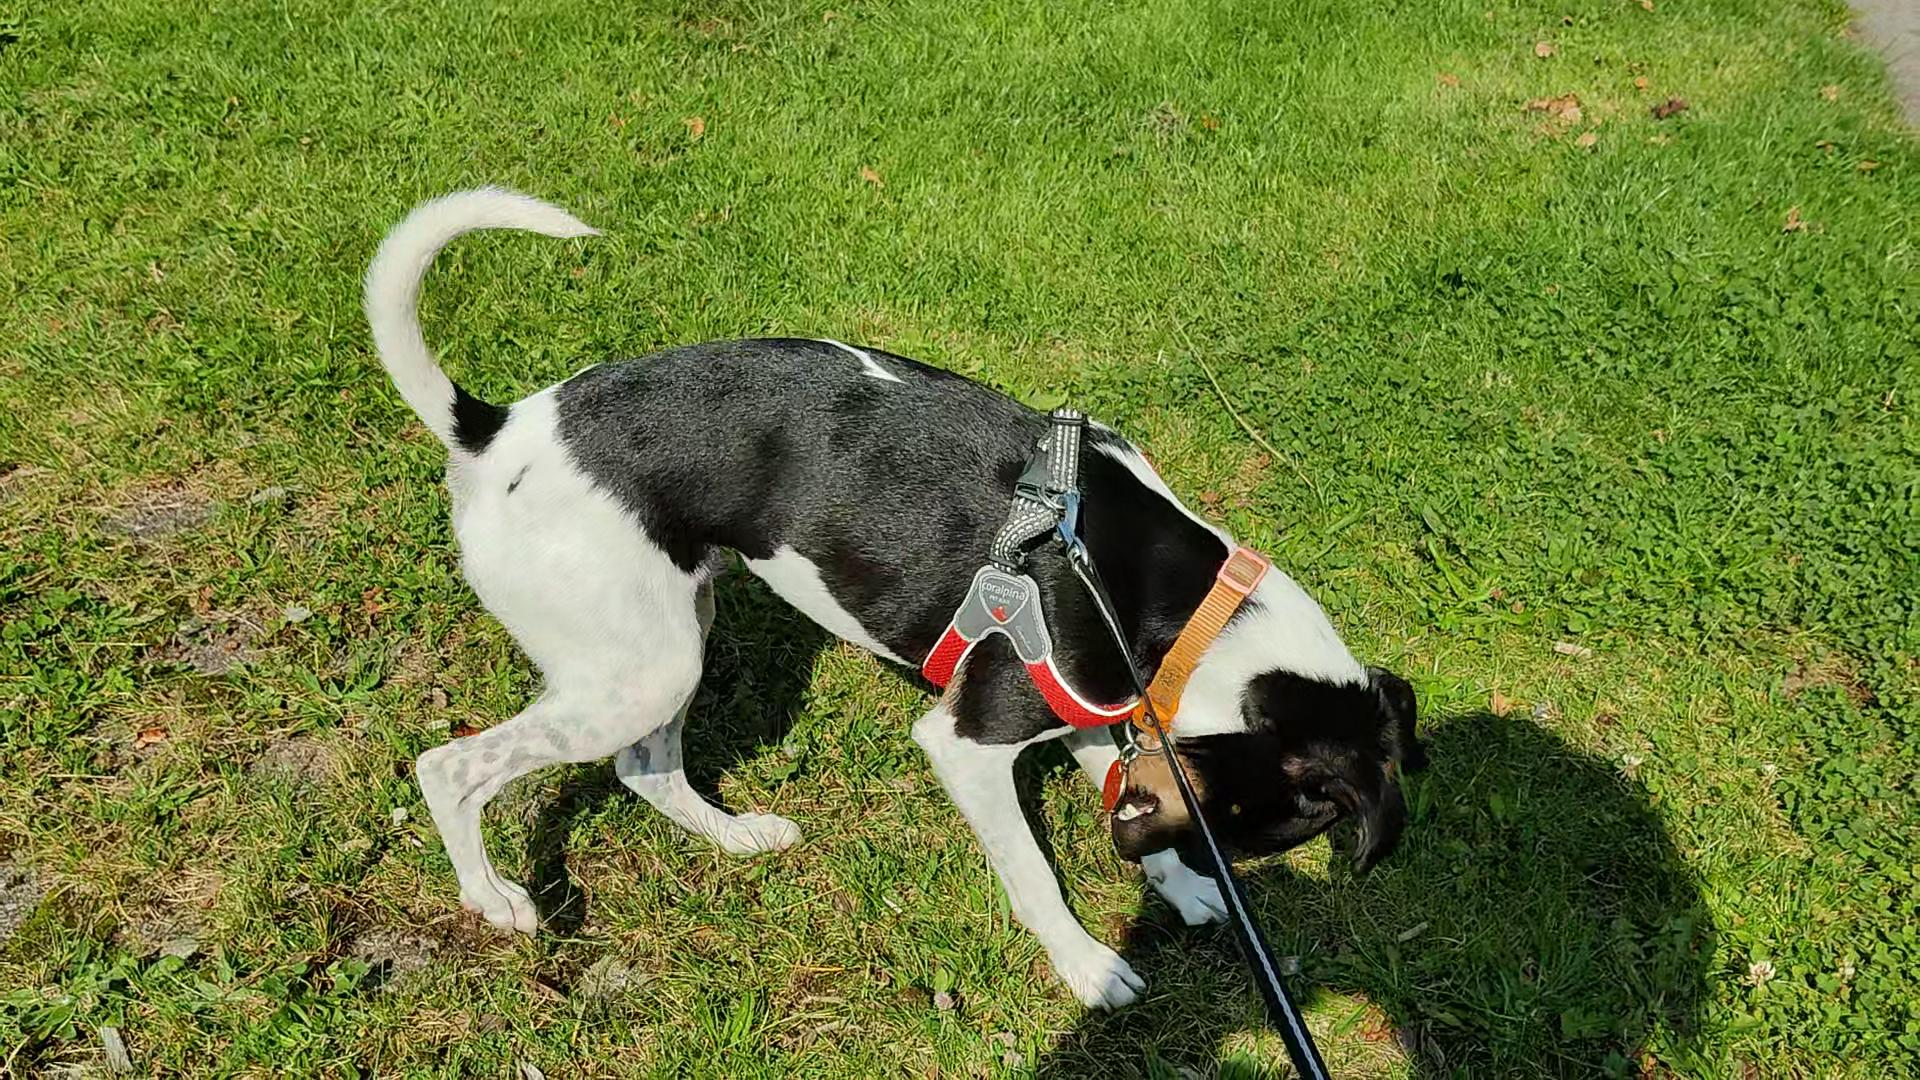Dog: (344, 156, 1451, 1013)
